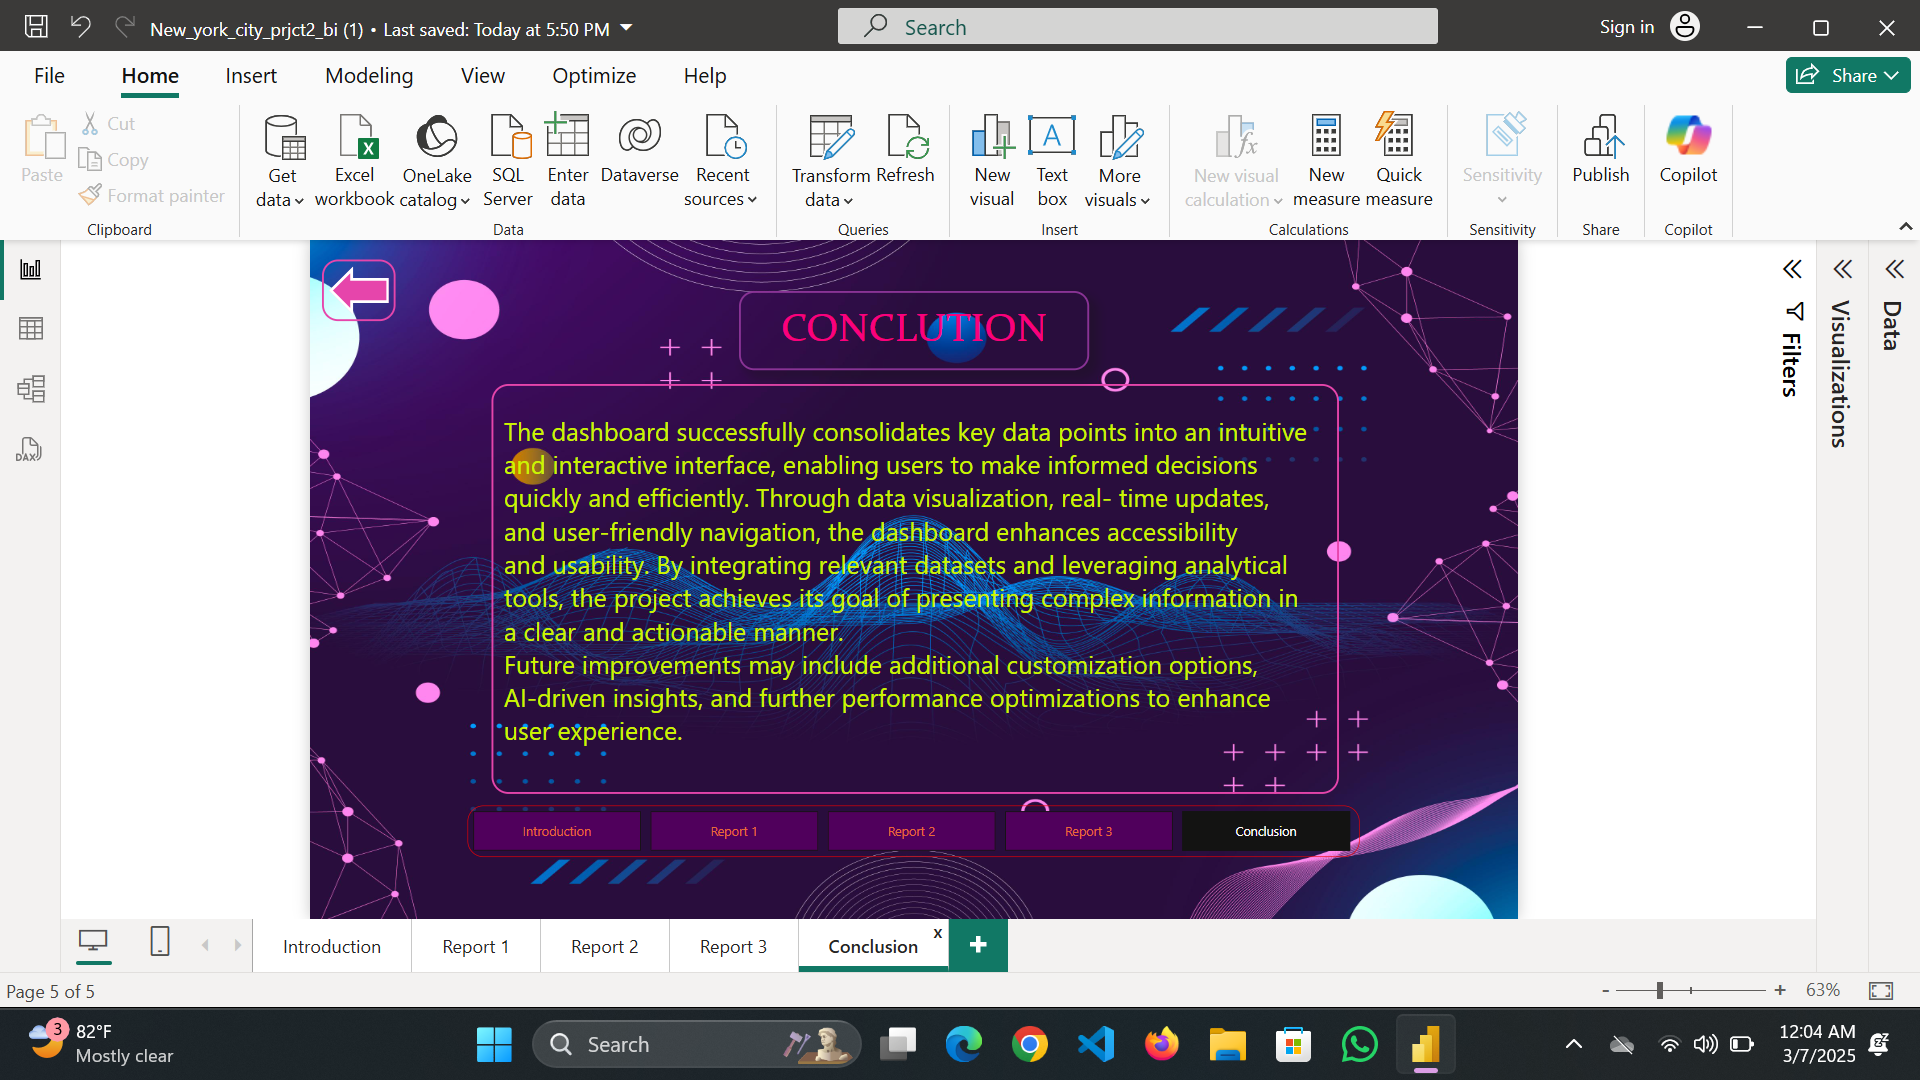

The page's visual inventory and layout, read from the dashboard file:
{"tool":"powerbi","page":{"name":"Conclusion","canvas":[1280,720],"ordinal":4},"visuals":[{"type":"textbox","box":[191.7,152.8,898.4,434.6],"z":0},{"type":"textbox","box":[454.9,54.8,371,83.9],"z":1000},{"type":"pageNavigator","box":[167,599.8,946.1,54.8],"z":2000},{"type":"shape","box":[12.7,3.2,77.9,65.2],"z":3000}]}

Visuals, with their boxes on the page's 1280x720 design canvas (x1, y1, x2, y2). These are canvas units, not pixel positions in the 1920x1080 screenshot, which may show the page scaled, cropped or inside an application window:
textbox: <region>192, 153, 1090, 587</region>
textbox: <region>455, 55, 826, 139</region>
pageNavigator: <region>167, 600, 1113, 655</region>
shape: <region>13, 3, 91, 68</region>
